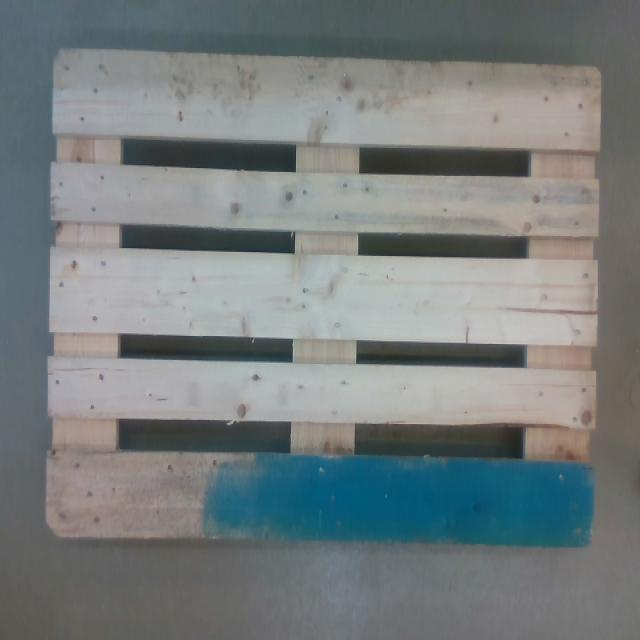pallet: (52, 52, 602, 551)
